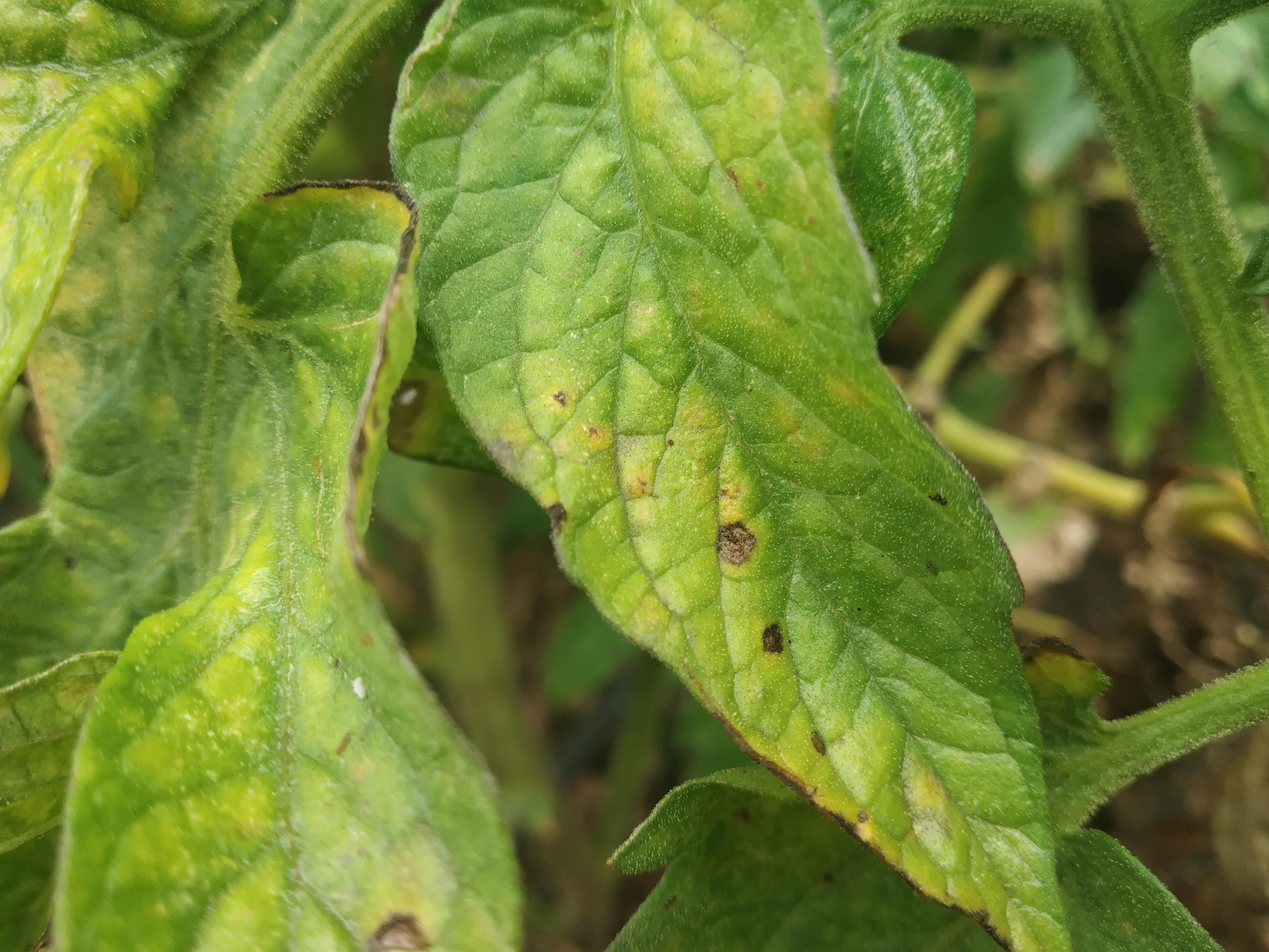Early Blight: (384, 0, 1079, 952)
